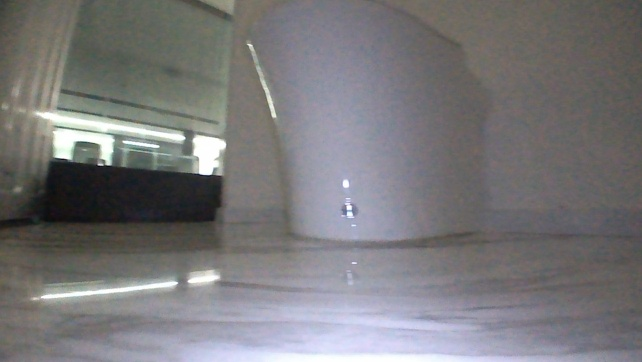toilet: (243, 0, 490, 246)
